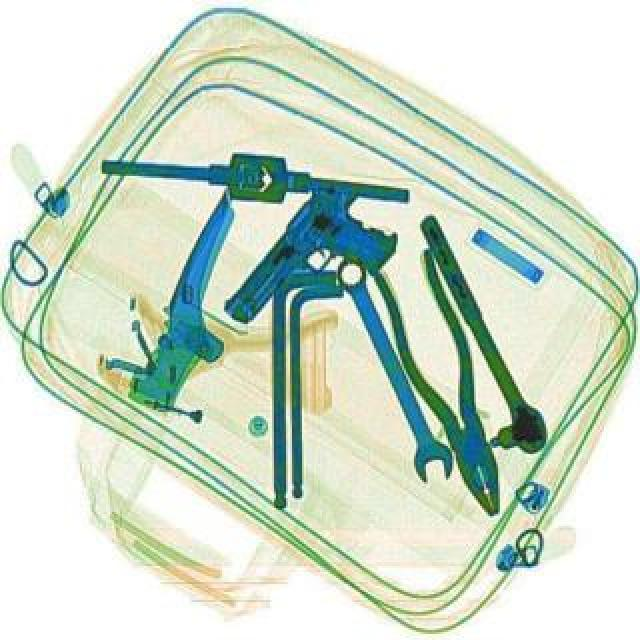gun: (214, 168, 414, 364)
scissors: (324, 254, 458, 488)
wrench: (366, 246, 526, 526)
